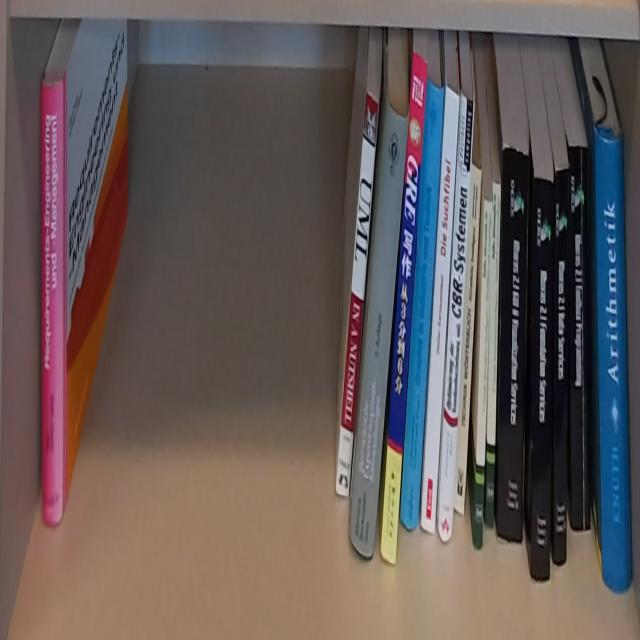Book Spine: (349, 99, 408, 561), (380, 51, 427, 568), (399, 80, 445, 529), (434, 90, 476, 544), (592, 124, 632, 594), (337, 90, 380, 500), (420, 90, 459, 529), (497, 144, 532, 549), (40, 79, 65, 530), (454, 163, 482, 517), (567, 142, 591, 531), (532, 175, 554, 584), (484, 180, 503, 527), (474, 201, 492, 549), (553, 165, 568, 565)
